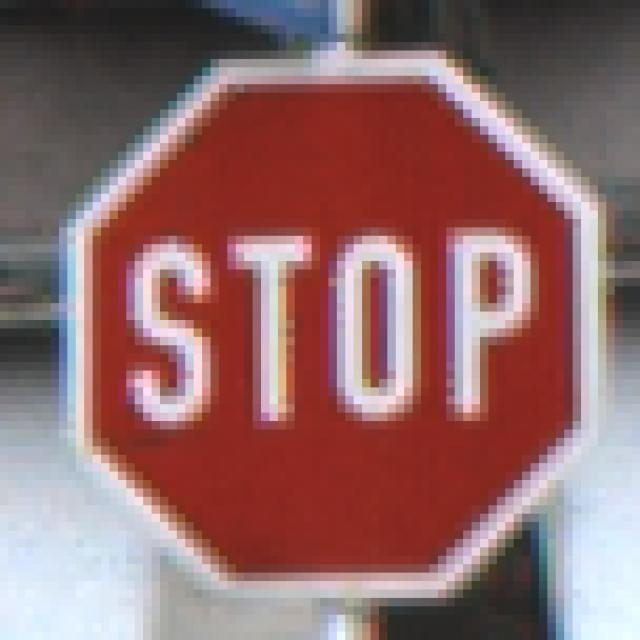stop: (60, 56, 604, 598)
